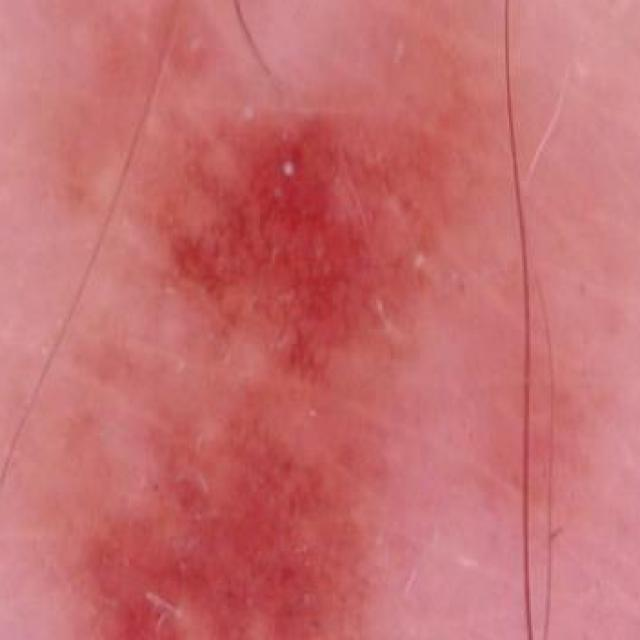NV: (9, 0, 466, 640)
